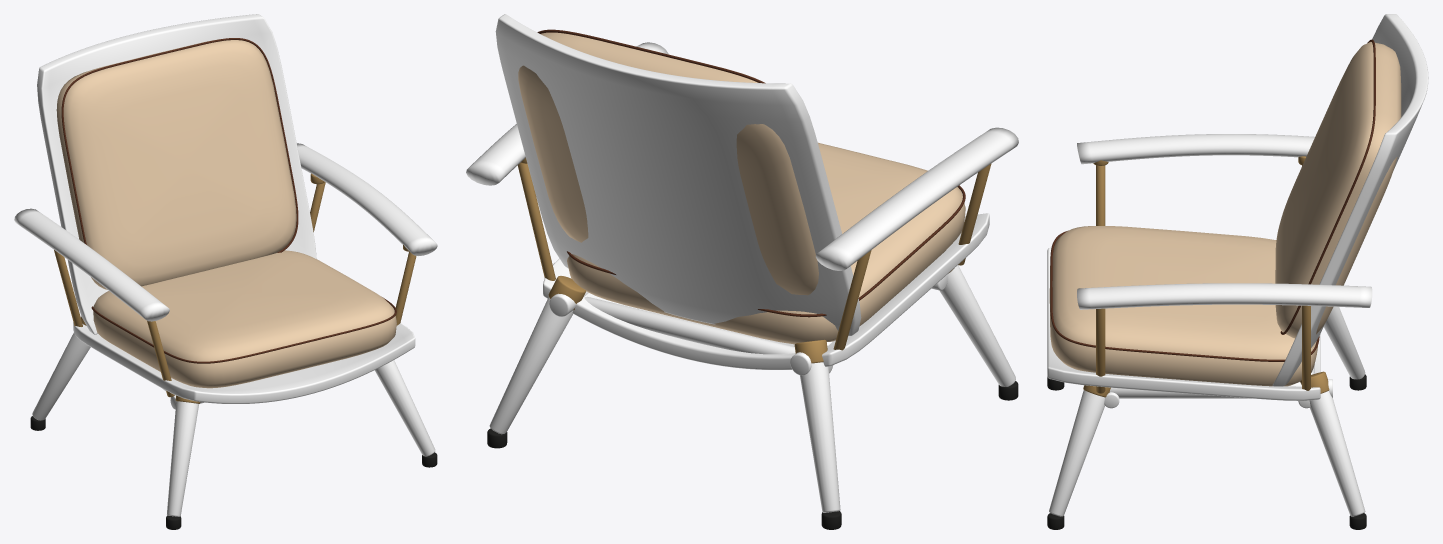
File: asset.glb
The picture shows the model from 3 angles, left to right: view 1: azimuth 30°, elevation 25°; view 2: azimuth 150°, elevation 25°; view 3: azimuth 270°, elevation 25°; orthographic projection. The views are drawn at different scales.
Visible parts, largest first — view 1: back_cushion, seat_cushion, timber_back, timber_seat, arm_left, arm_right, leg_front_left, leg_front_right, leg_rear_left, back_cushion_piping, seat_cushion_piping, arm_support_rear_left (+2 smaller); view 2: timber_back, back_cushion, seat_cushion, timber_seat, arm_left, leg_rear_left, cross_brace_rear, leg_rear_right, leg_front_left, arm_right, arm_support_rear_right, arm_support_rear_left (+3 smaller); view 3: seat_cushion, back_cushion, timber_back, arm_right, arm_left, timber_seat, leg_front_right, leg_rear_right, leg_rear_left, seat_cushion_piping, underframe_right, back_cushion_piping (+3 smaller).
Boxes of the visible parts, x1,y1,x2,y2 form: back_cushion: (56,39,296,289); seat_cushion: (93,250,396,388); timber_back: (37,14,316,334); timber_seat: (73,322,415,403); arm_left: (14,208,169,321); arm_right: (297,143,437,255); leg_front_left: (167,401,198,516); leg_front_right: (374,360,435,456); leg_rear_left: (32,332,90,420); back_cushion_piping: (61,38,298,252); seat_cushion_piping: (91,297,396,363); arm_support_rear_left: (54,250,82,326); timber_back: (495,14,861,335); back_cushion: (518,32,818,295); seat_cushion: (567,142,965,344); timber_seat: (543,213,989,369); arm_left: (815,127,1018,270); leg_rear_left: (800,362,840,512); cross_brace_rear: (584,296,833,373); leg_rear_right: (489,297,573,434); leg_front_left: (939,265,1015,386); arm_right: (466,42,668,185); arm_support_rear_right: (517,162,555,280); arm_support_rear_left: (833,250,871,350); seat_cushion: (1049,226,1317,386); back_cushion: (1275,42,1401,338); timber_back: (1272,14,1428,386); arm_right: (1077,283,1372,309); arm_left: (1077,134,1314,164); timber_seat: (1047,247,1320,400); leg_front_right: (1049,390,1104,516); leg_rear_right: (1309,391,1365,516); leg_rear_left: (1324,306,1365,379); seat_cushion_piping: (1050,230,1319,361); underframe_right: (1109,379,1332,398); back_cushion_piping: (1280,39,1375,334).
Size of the model in its own units: 1.09 by 1.19 by 1.07.
